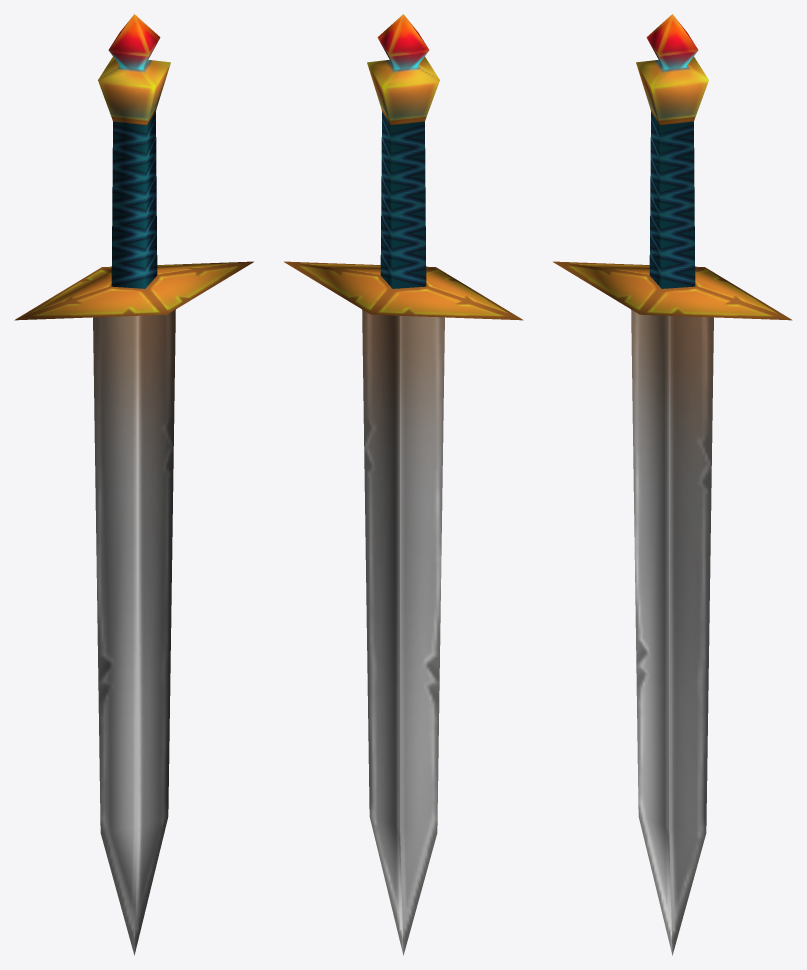
Rendered from Weap_Jian_ChangJian.FBX.
3 views of the same model, side by side, from view 1: azimuth 30°, elevation 25°; view 2: azimuth 150°, elevation 25°; view 3: azimuth 330°, elevation 25° (orthographic).
Visible parts, largest first — view 1: Weap_Jian_ChangJian; view 2: Weap_Jian_ChangJian; view 3: Weap_Jian_ChangJian.
Boxes of the visible parts, left/top/right/bottom form: Weap_Jian_ChangJian: left=14, top=14, right=253, bottom=955; Weap_Jian_ChangJian: left=284, top=14, right=523, bottom=955; Weap_Jian_ChangJian: left=553, top=14, right=792, bottom=955.
Size of the model in its own units: 45.77 by 171 by 21.42.
1 material, 1 textured.
